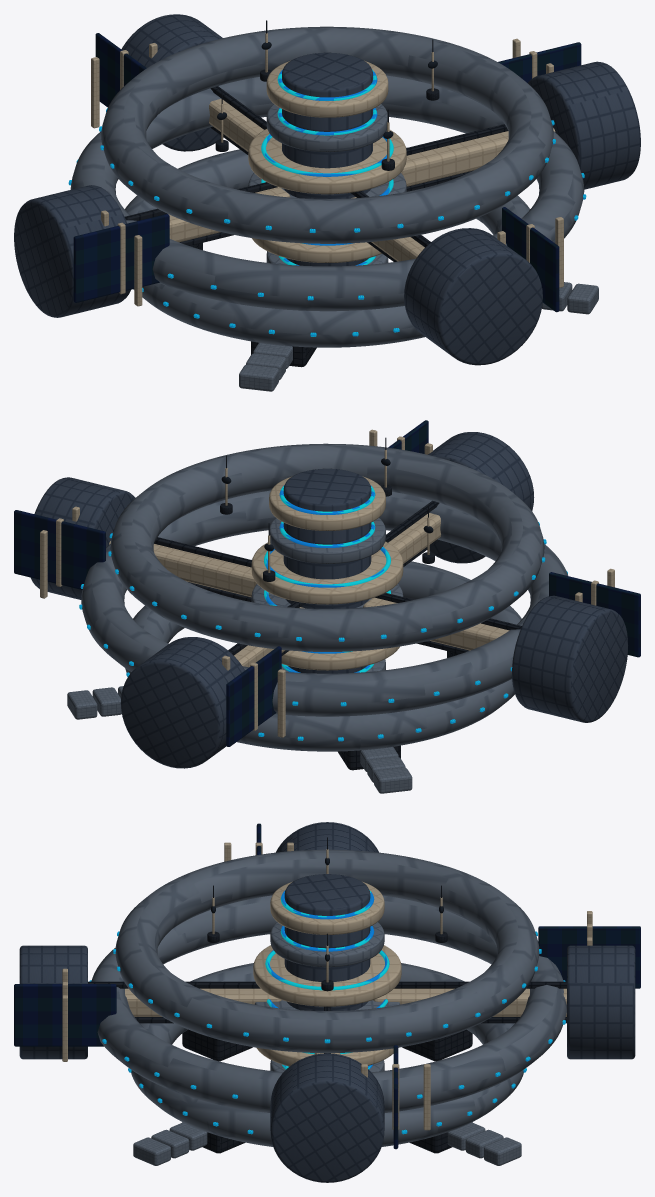
Rendered from aur-citadel-station.glb.
3 renders of one model, top to bottom at view 1: azimuth 30°, elevation 25°; view 2: azimuth 150°, elevation 25°; view 3: azimuth 270°, elevation 25°, orthographic. The views are drawn at different scales.
Parts seen in each view (by area): view 1: Habitat_Ring_Upper_Armor, Habitat_Ring_Middle_Armor, Dock_Hub_South_Body, Habitat_Ring_Lower_Armor, Dock_Hub_East_Body, Dock_Hub_West_Body, Operations_Spindle, Solar_Array_West, Spindle_Deck_5, Dock_Hub_North_Body, Dock_Arm_East, Spindle_Deck_7 (+19 smaller); view 2: Habitat_Ring_Upper_Armor, Habitat_Ring_Middle_Armor, Dock_Hub_West_Body, Dock_Hub_North_Body, Habitat_Ring_Lower_Armor, Operations_Spindle, Solar_Array_East, Spindle_Deck_5, Dock_Hub_South_Body, Dock_Hub_East_Body, Solar_Array_North, Dock_Arm_East (+15 smaller); view 3: Habitat_Ring_Upper_Armor, Habitat_Ring_Middle_Armor, Dock_Hub_East_Body, Habitat_Ring_Lower_Armor, Dock_Hub_North_Body, Solar_Array_South, Operations_Spindle, Spindle_Deck_5, Dock_Hub_South_Body, Solar_Array_North, Spindle_Deck_7, Spindle_Deck_6 (+17 smaller).
Part boxes in pixels (x1,y1,x2,y2): Habitat_Ring_Upper_Armor: (101, 26, 553, 243); Habitat_Ring_Middle_Armor: (70, 75, 584, 311); Dock_Hub_South_Body: (404, 228, 542, 365); Habitat_Ring_Lower_Armor: (124, 147, 530, 347); Dock_Hub_East_Body: (528, 61, 640, 189); Dock_Hub_West_Body: (14, 185, 130, 317); Operations_Spindle: (282, 52, 372, 266); Solar_Array_West: (73, 214, 169, 302); Spindle_Deck_5: (248, 129, 406, 194); Dock_Hub_North_Body: (121, 14, 222, 151); Dock_Arm_East: (401, 128, 555, 186); Spindle_Deck_7: (266, 60, 388, 117); Habitat_Ring_Upper_Armor: (110, 443, 544, 651); Habitat_Ring_Middle_Armor: (81, 490, 568, 716); Dock_Hub_West_Body: (512, 595, 628, 722); Dock_Hub_North_Body: (120, 637, 244, 768); Habitat_Ring_Lower_Armor: (125, 559, 521, 751); Operations_Spindle: (283, 468, 371, 673); Solar_Array_East: (14, 510, 105, 589); Spindle_Deck_5: (251, 541, 403, 604); Dock_Hub_South_Body: (428, 432, 534, 563); Dock_Hub_East_Body: (31, 477, 135, 599); Solar_Array_North: (226, 646, 281, 746); Dock_Arm_East: (109, 541, 256, 597); Habitat_Ring_Upper_Armor: (115, 849, 539, 1052); Habitat_Ring_Middle_Armor: (91, 895, 566, 1112); Dock_Hub_East_Body: (270, 1053, 384, 1182); Habitat_Ring_Lower_Armor: (131, 963, 523, 1146); Dock_Hub_North_Body: (567, 945, 635, 1059); Solar_Array_South: (14, 984, 116, 1046); Operations_Spindle: (284, 874, 370, 1066); Spindle_Deck_5: (253, 945, 401, 1006); Dock_Hub_South_Body: (19, 945, 87, 1059); Solar_Array_North: (538, 926, 640, 988); Spindle_Deck_7: (270, 881, 384, 934); Spindle_Deck_6: (270, 922, 384, 967).
Bounding box in the file's own units: 5500 × 2209 × 5500.
Materials: 7 (6 with a texture image).
